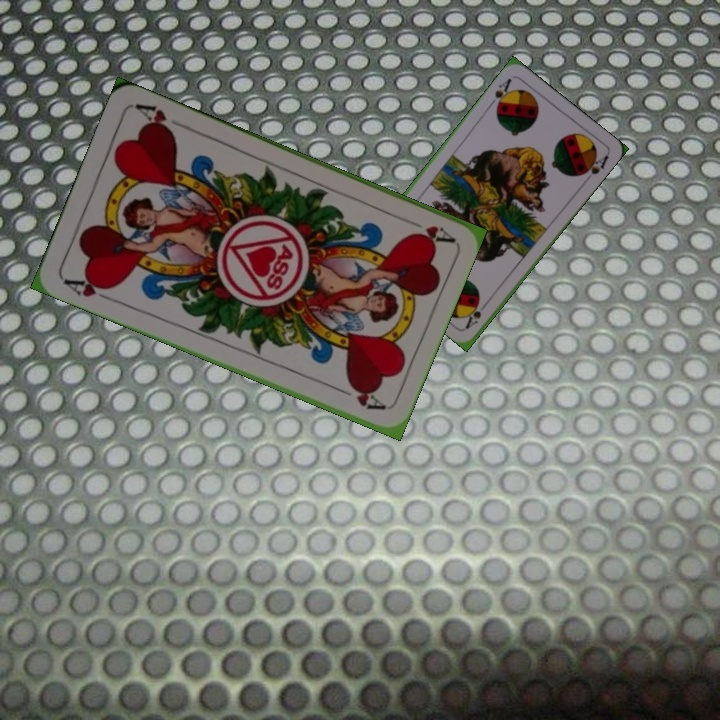HA: (59, 272, 117, 305), (408, 221, 456, 246)
SA: (485, 74, 514, 112), (461, 297, 492, 331)
